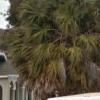Tree: (6, 2, 99, 88)
